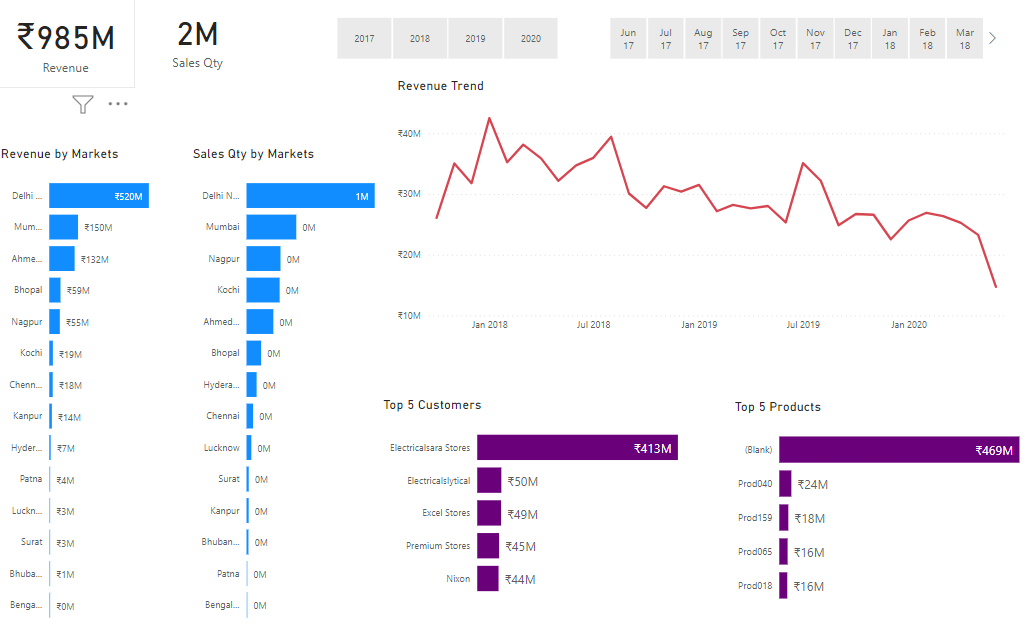

Layout of this report page (visuals, bound fields, positions):
{"tool":"powerbi","page":{"name":"Key Insights","canvas":[1350,850],"ordinal":0},"visuals":[{"type":"card","fields":{"Values":["BaseMeasures (2).Revenue"]},"box":[0,0,178.3,118.3],"z":0},{"type":"card","fields":{"Values":["BaseMeasures (2).Sales Qty"]},"box":[191.7,1.7,136.7,103.3],"z":1000},{"type":"barChart","title":"Revenue by Markets","fields":{"Category":["sales markets.markets_name"],"Y":["BaseMeasures (2).Revenue"]},"box":[0,193.1,221.9,632.1],"z":2000},{"type":"barChart","title":"Sales Qty by Markets","fields":{"Y":["BaseMeasures (2).Sales Qty"],"Category":["sales markets.markets_name"]},"box":[247.9,193.1,247.9,631.9],"z":3000},{"type":"slicer","fields":{"Values":["sales date.year"]},"box":[483.2,0,335.5,66.5],"z":4000},{"type":"slicer","fields":{"Values":["sales date.cy_date"]},"box":[818.6,0,531.7,66.5],"z":5000},{"type":"barChart","title":"Top 5 Customers","fields":{"Y":["BaseMeasures (2).Revenue"],"Category":["sales customers.custmer_name"]},"box":[495.8,519,446.2,274.3],"z":6000},{"type":"barChart","title":"Top 5 Products","fields":{"Y":["BaseMeasures (2).Revenue"],"Category":["sales products.product_code"]},"box":[950.7,519.2,399.5,282.8],"z":7000},{"type":"lineChart","title":"Revenue Trend","fields":{"Y":["BaseMeasures (2).Revenue"],"Category":["sales date.cy_date"]},"box":[513.8,104.4,809.1,338.6],"z":8000}]}

Visuals, with their boxes in screenshot pixels (x1, y1, x2, y2), scaled from the page's 1350x850 canvas onto the 1028x640 screenshot:
card - BaseMeasures (2).Revenue: locate(0, 0, 136, 89)
card - BaseMeasures (2).Sales Qty: locate(146, 1, 250, 79)
"Revenue by Markets" barChart: locate(0, 145, 169, 621)
"Sales Qty by Markets" barChart: locate(189, 145, 378, 621)
slicer - sales date.year: locate(368, 0, 623, 50)
slicer - sales date.cy_date: locate(623, 0, 1027, 50)
"Top 5 Customers" barChart: locate(378, 391, 717, 597)
"Top 5 Products" barChart: locate(724, 391, 1027, 604)
"Revenue Trend" lineChart: locate(391, 79, 1007, 334)
